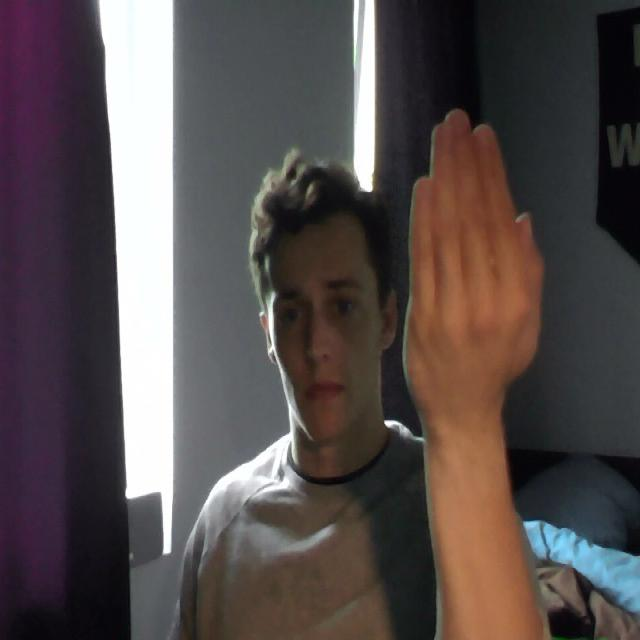forward: (346, 82, 556, 401)
